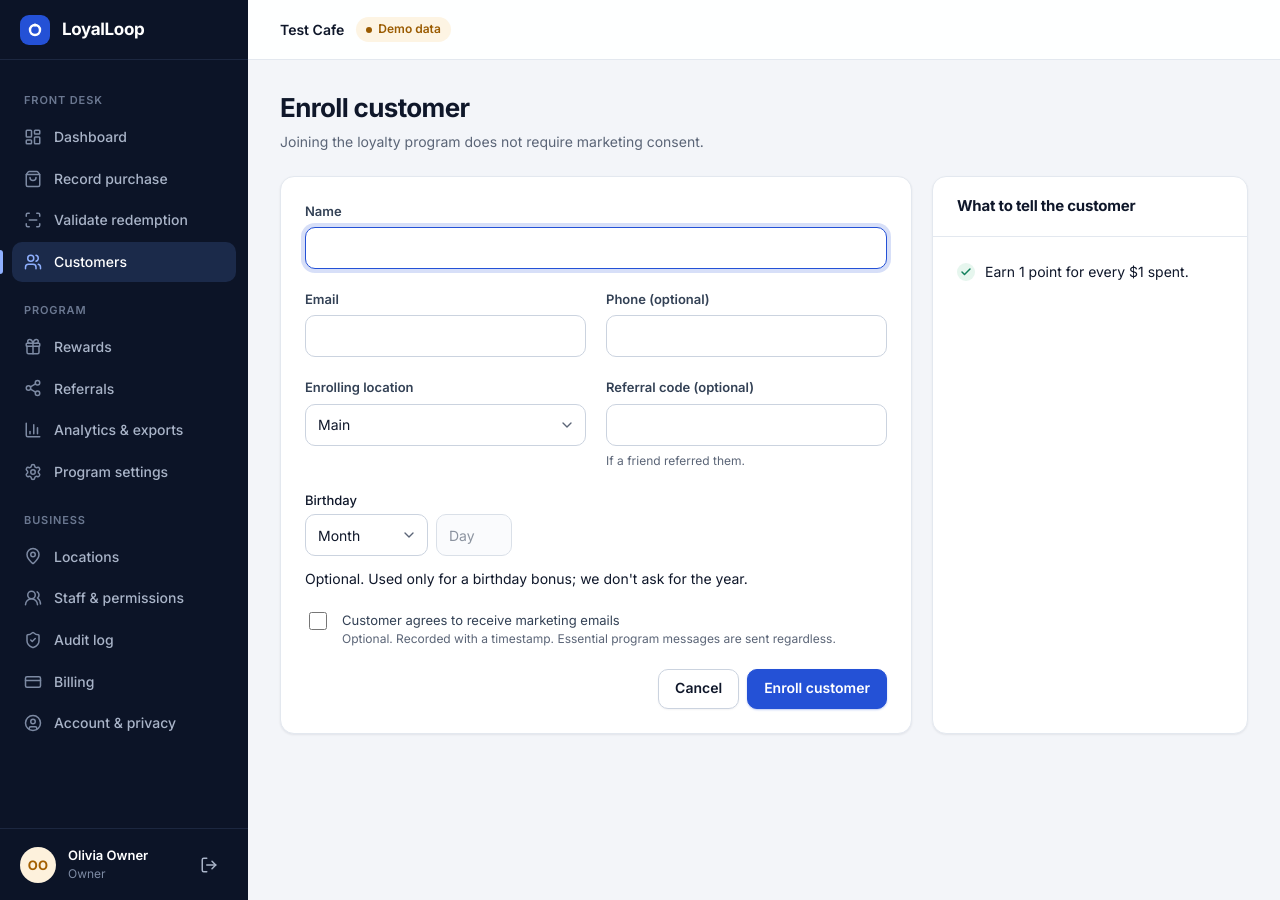
Test case: form validation feedback › enrollment requires an email or phone
This screenshot has width=1280, height=900.
Type "Walk In" into the field labelled "Name" at (596, 248), box top-left (305, 227), bottom-right (887, 269)
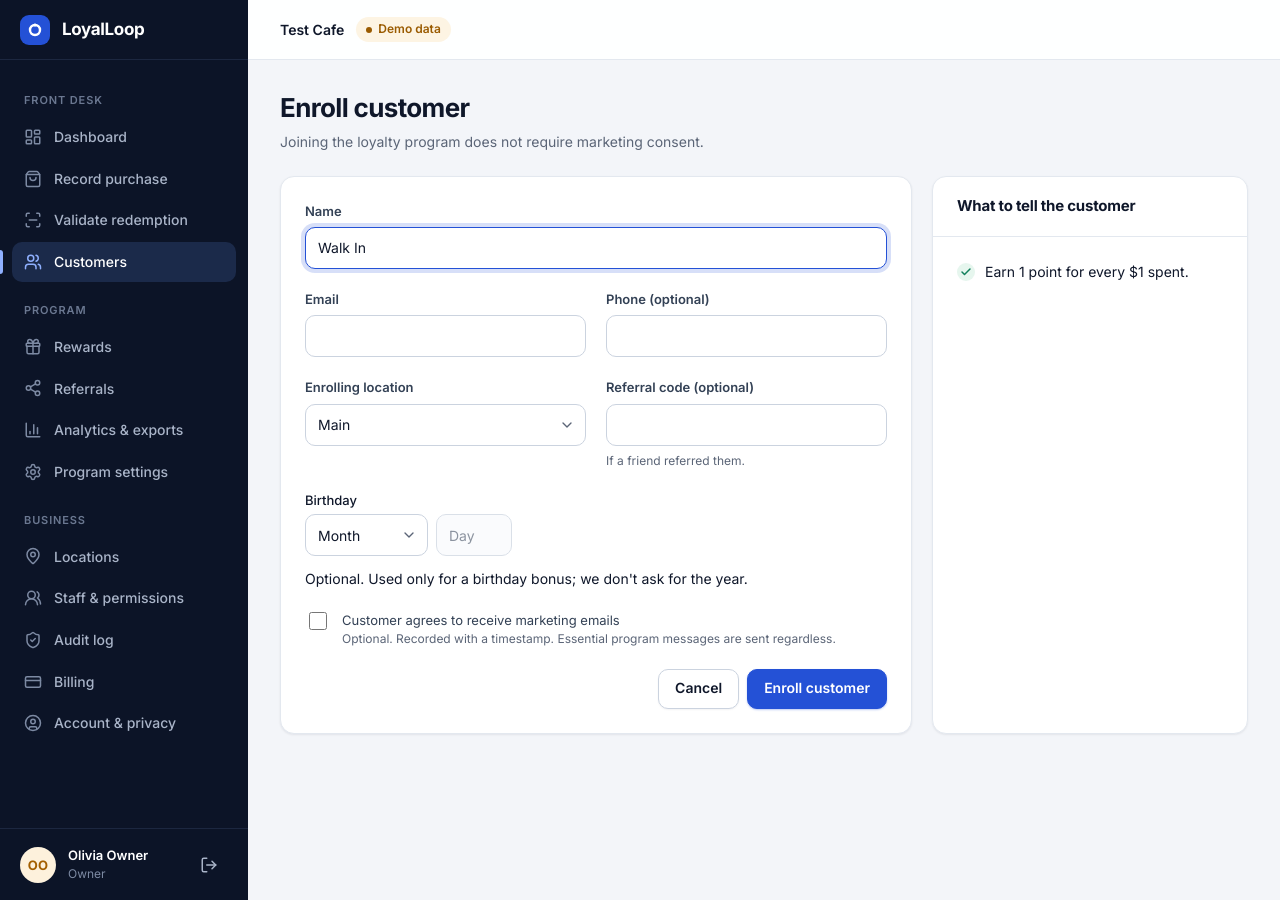
Click the button "Enroll customer" at (817, 689), box top-left (747, 669), bottom-right (887, 709)
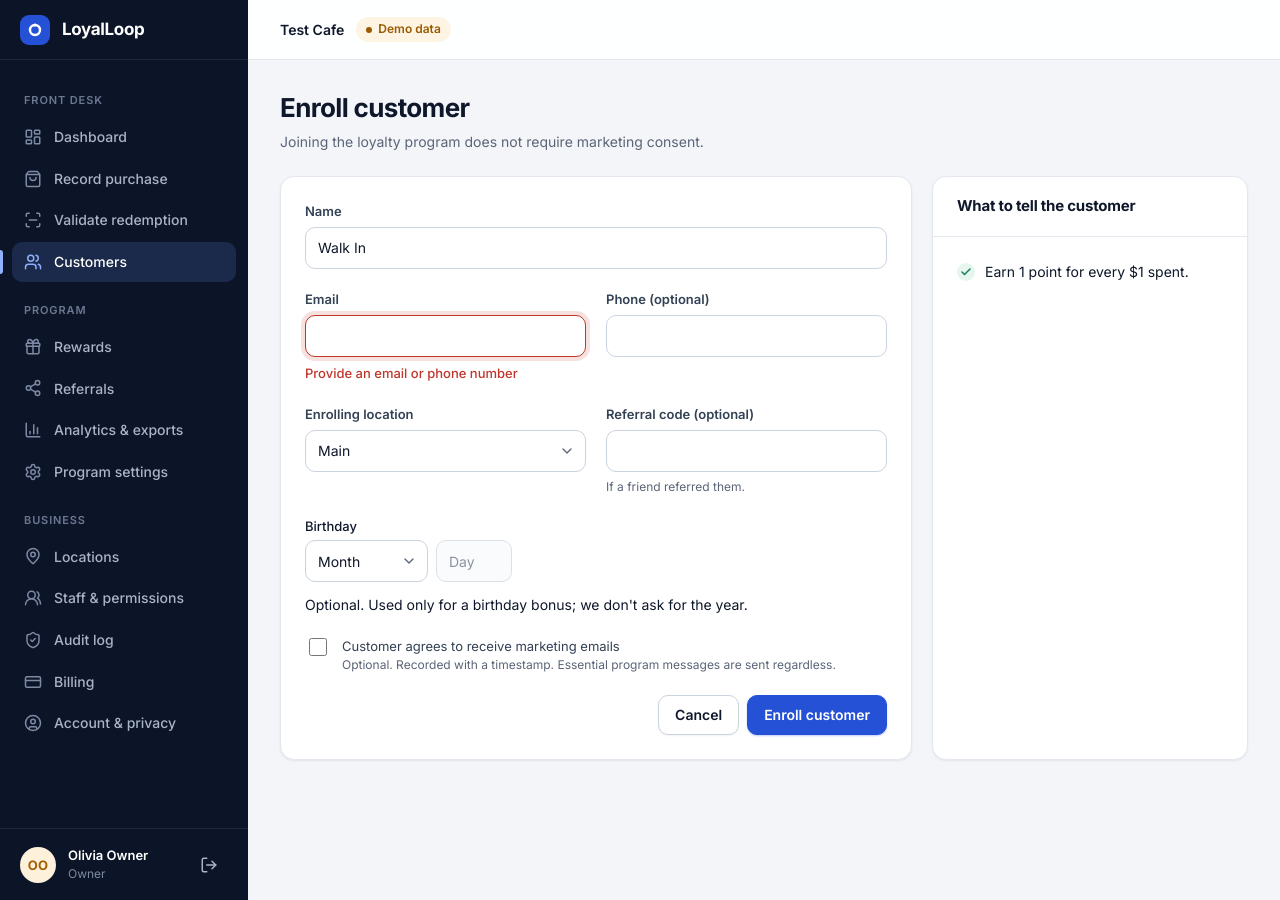
Expected: the text "Provide an email or phone number" is shown, top-left (305, 366), bottom-right (518, 382)
